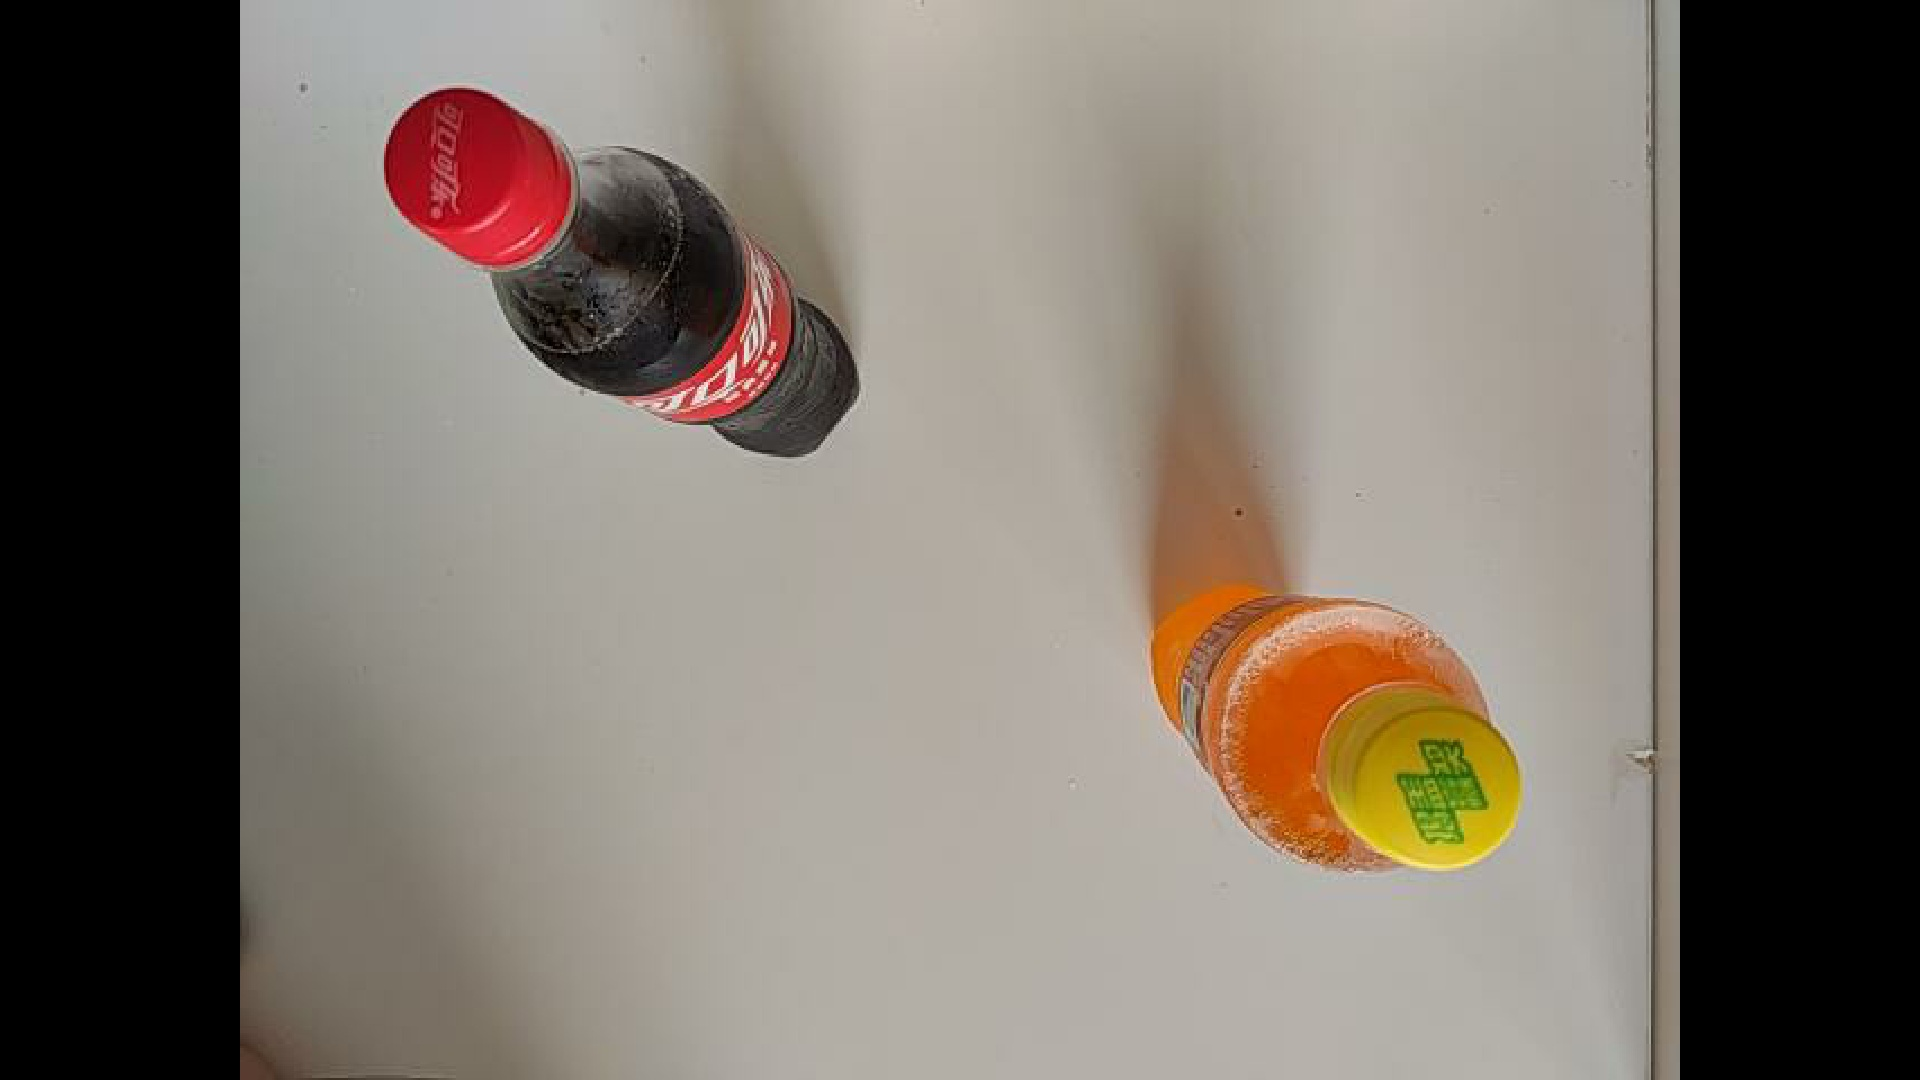cola: (211, 4, 910, 389)
fenta: (1146, 580, 1524, 878)
